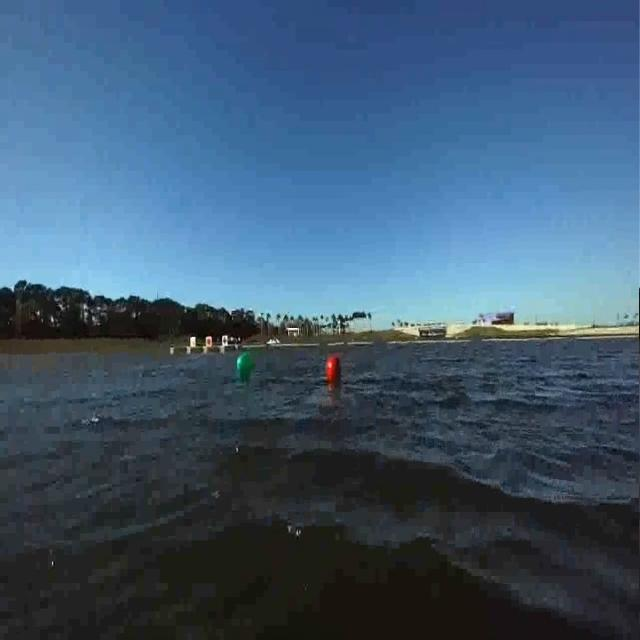green-buoy: (232, 320, 257, 388)
red-buoy: (324, 352, 344, 388)
